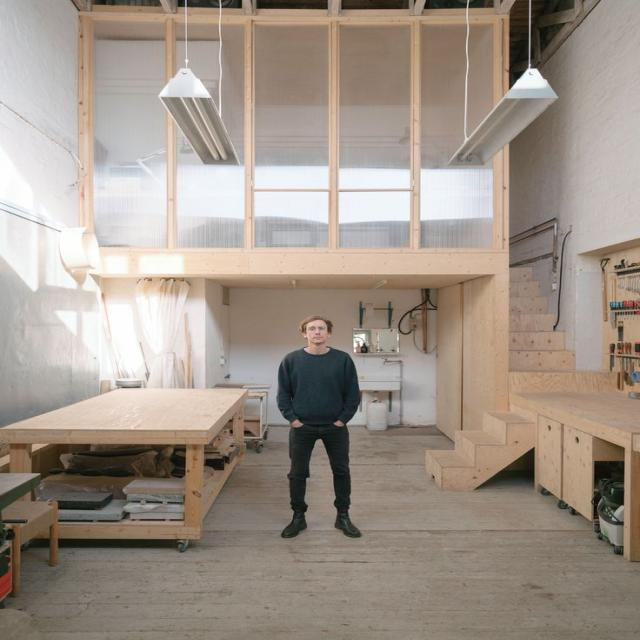obstacle: (0, 386, 249, 552), (510, 389, 639, 562)
person: (276, 314, 362, 538)
